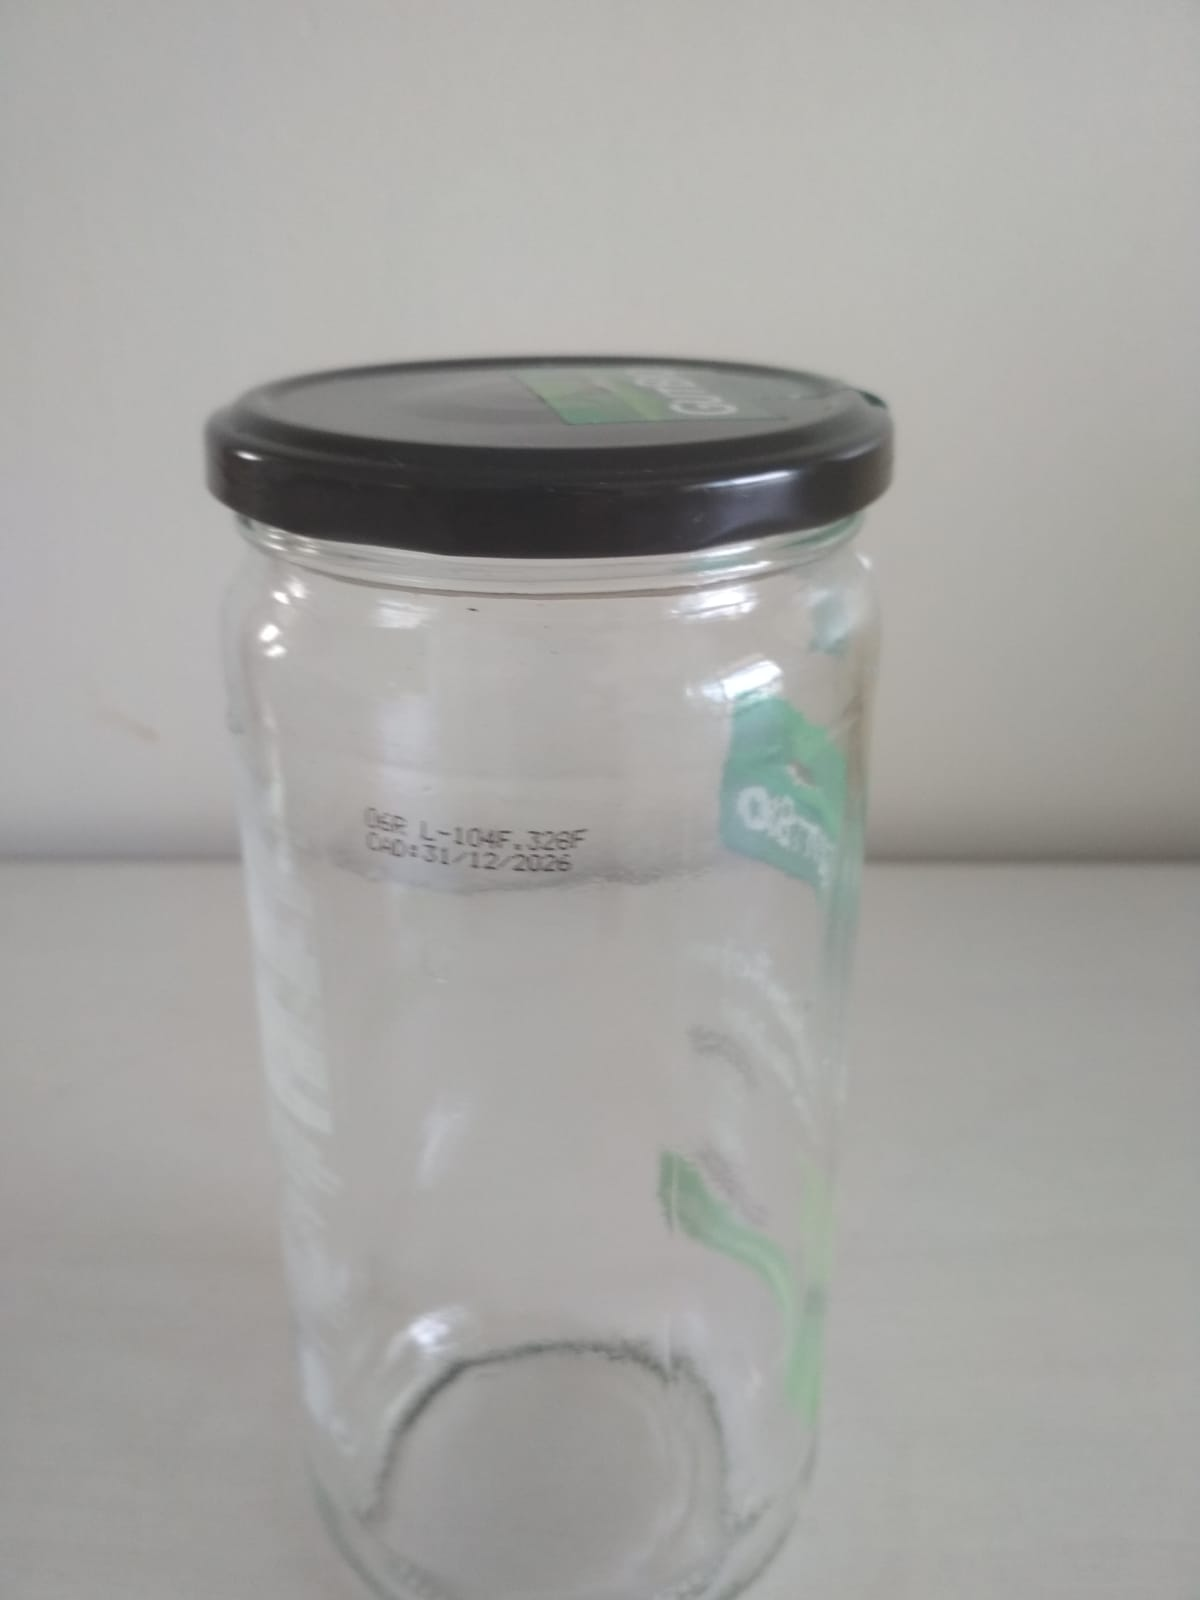pote cristal: (193, 358, 901, 1600)
